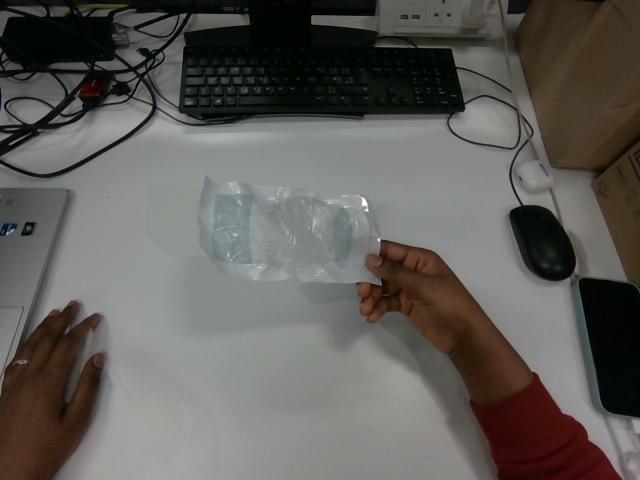gallipot: (198, 177, 379, 283)
